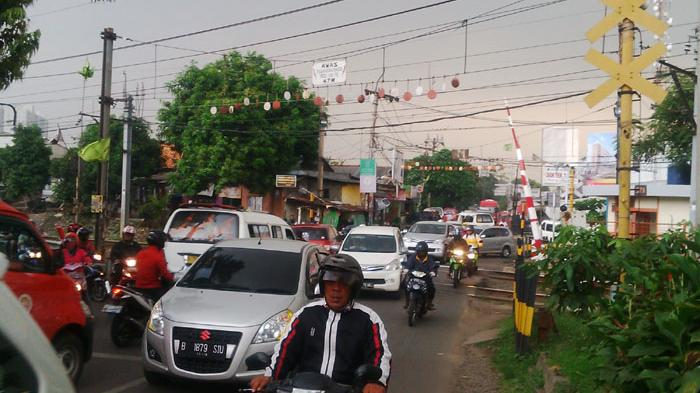plate: (177, 342, 222, 357)
